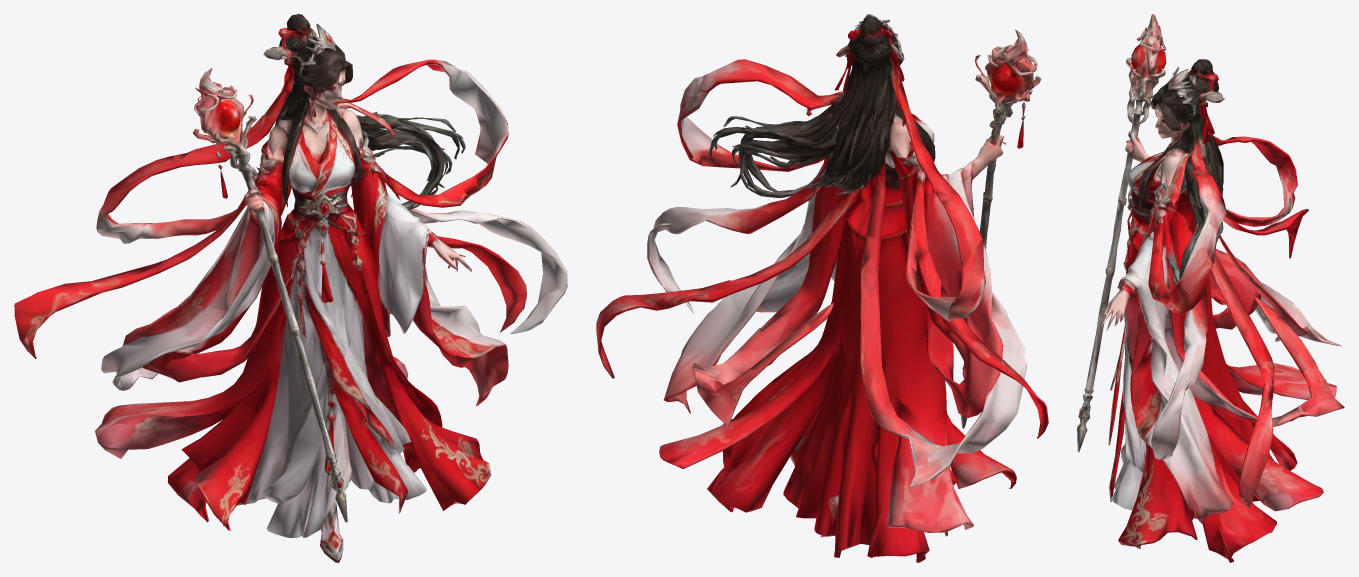
3 views of the same model, side by side, from view 1: azimuth 30°, elevation 25°; view 2: azimuth 150°, elevation 25°; view 3: azimuth 270°, elevation 25° (orthographic). The views are drawn at different scales.
Visible parts, largest first — view 1: XiangqiPiece; view 2: XiangqiPiece; view 3: XiangqiPiece.
Boxes of the visible parts, x1,y1,x2,y2 form: XiangqiPiece: [14, 14, 567, 562]; XiangqiPiece: [596, 14, 1048, 562]; XiangqiPiece: [1077, 14, 1344, 562].
Size of the model in its own units: 0.95 by 0.9852 by 0.5176.
Materials: 1 (1 with a texture image).
